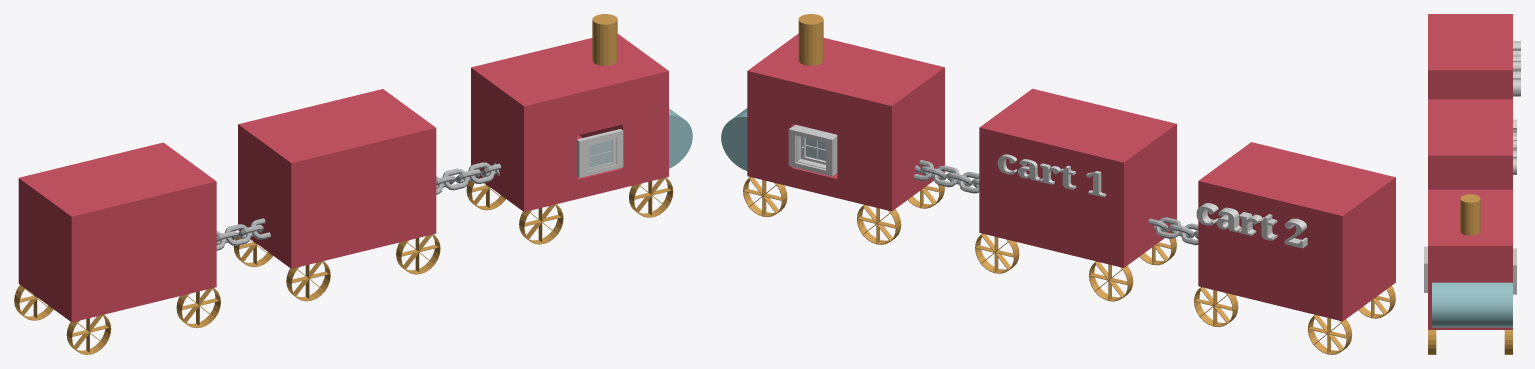
Rendered from Brave Lappi.glb.
3 views of the same model, side by side, from view 1: azimuth 30°, elevation 25°; view 2: azimuth 150°, elevation 25°; view 3: azimuth 270°, elevation 25° (orthographic). The views are drawn at different scales.
Visible parts, largest first — view 1: Mesh_Mesh_head_geo.001_lambert2SG.001; view 2: Mesh_Mesh_head_geo.001_lambert2SG.001; view 3: Mesh_Mesh_head_geo.001_lambert2SG.001.
Part boxes in pixels (x1,y1,x2,y2): Mesh_Mesh_head_geo.001_lambert2SG.001: [14, 14, 692, 354]; Mesh_Mesh_head_geo.001_lambert2SG.001: [721, 14, 1395, 354]; Mesh_Mesh_head_geo.001_lambert2SG.001: [1424, 14, 1520, 354].
Size of the model in its own units: 143 by 40 by 24.
